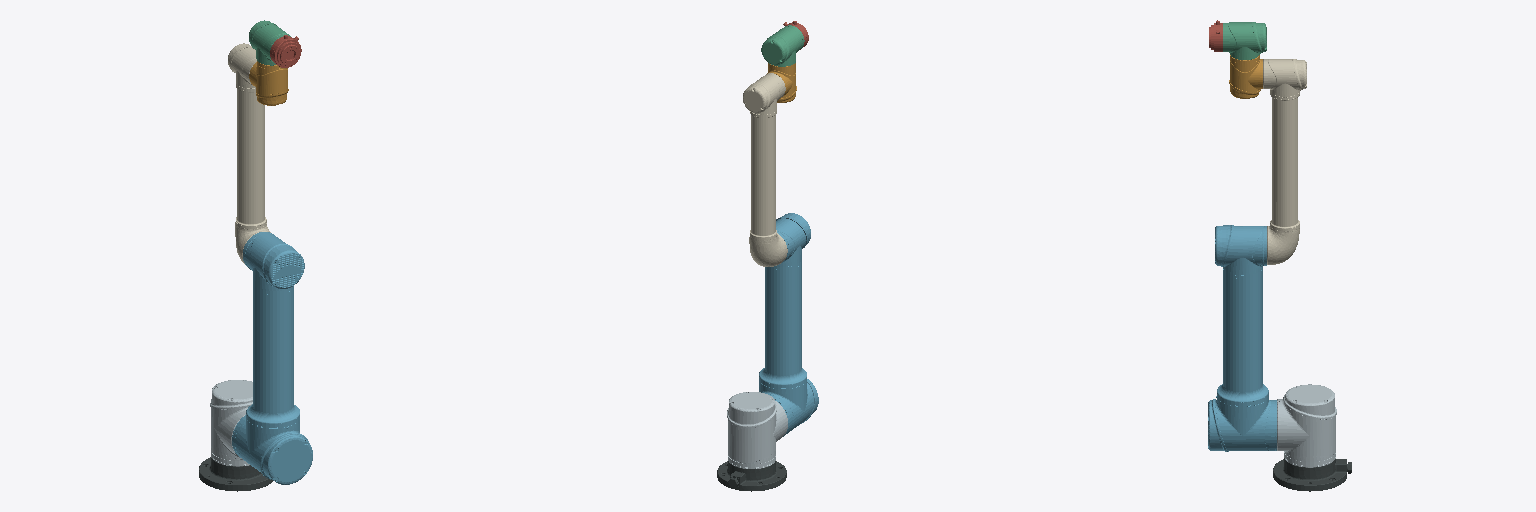
robot.urdf — aubo_i12h:
<?xml version="1.0"?>
<!--
  AUBO-i12H model for the physical robot connected to this project.

  Kinematics source:
    rob1.RobotConfig.getRobotType() == "aubo_i12H"
    rob1.RobotConfig.getKinematicsParam(true)

  The six revolute-joint origins encode the controller's calibrated modified-DH
  transform exactly:
      A_i(q_i) = Rx(alpha_i) Tx(a_i) Rz(theta_i + q_i) Tz(d_i)

  Geometry source:
    AUBO official i12H STEP, SHA-256
    3003f06588fecdf72fed3a36412b5fd2b41a9809af53da43f2d21272834a8948

  Mesh coordinates are metres and are expressed in the nominal i12H link
  frames.  The calibrated joint frames below intentionally introduce the
  controller's sub-millimetre / sub-0.11-degree factory compensation.
-->
<robot name="aubo_i12h">
  <material name="aubo_dark"><color rgba="0.30 0.33 0.33 1"/></material>
  <material name="aubo_light"><color rgba="0.74 0.79 0.81 1"/></material>
  <material name="aubo_blue"><color rgba="0.45 0.67 0.76 1"/></material>
  <material name="aubo_warm"><color rgba="0.82 0.80 0.73 1"/></material>
  <material name="aubo_gold"><color rgba="0.78 0.60 0.32 1"/></material>
  <material name="aubo_green"><color rgba="0.40 0.66 0.55 1"/></material>
  <material name="aubo_red"><color rgba="0.67 0.38 0.34 1"/></material>

  <link name="base_link">
    <visual><geometry><mesh filename="package://aubo_description/meshes/aubo_i12h/base_link.STL"/></geometry><material name="aubo_dark"/></visual>
    <collision><geometry><mesh filename="package://aubo_description/meshes/aubo_i12h/base_link.STL"/></geometry></collision>
  </link>

  <link name="shoulder_Link">
    <visual><geometry><mesh filename="package://aubo_description/meshes/aubo_i12h/shoulder_Link.STL"/></geometry><material name="aubo_light"/></visual>
    <collision><geometry><mesh filename="package://aubo_description/meshes/aubo_i12h/shoulder_Link.STL"/></geometry></collision>
  </link>
  <joint name="shoulder_joint" type="revolute">
    <parent link="base_link"/><child link="shoulder_Link"/>
    <origin xyz="0 0 0.163" rpy="0 0 3.141592653589793"/>
    <axis xyz="0 0 1"/>
    <limit lower="-6.283185307179586" upper="6.283185307179586" effort="100" velocity="3.106686068549907"/>
  </joint>

  <link name="upperArm_Link">
    <visual><geometry><mesh filename="package://aubo_description/meshes/aubo_i12h/upperArm_Link.STL"/></geometry><material name="aubo_blue"/></visual>
    <collision><geometry><mesh filename="package://aubo_description/meshes/aubo_i12h/upperArm_Link.STL"/></geometry></collision>
  </link>
  <joint name="upperArm_joint" type="revolute">
    <parent link="shoulder_Link"/><child link="upperArm_Link"/>
    <origin xyz="-0.000991499982774258 0.191046189272425 0.0000640195786026701"
            rpy="-0.000000000000182729 -1.57046122680442 -1.57079632679471"/>
    <axis xyz="0 0 1"/>
    <limit lower="-6.283185307179586" upper="6.283185307179586" effort="100" velocity="3.106686068549907"/>
  </joint>

  <link name="foreArm_Link">
    <visual><geometry><mesh filename="package://aubo_description/meshes/aubo_i12h/foreArm_Link.STL"/></geometry><material name="aubo_warm"/></visual>
    <collision><geometry><mesh filename="package://aubo_description/meshes/aubo_i12h/foreArm_Link.STL"/></geometry></collision>
  </link>
  <joint name="foreArm_joint" type="revolute">
    <parent link="upperArm_Link"/><child link="foreArm_Link"/>
    <origin xyz="0.580595799996518 -0.000000073699591064403 0.0000461999401217392"
            rpy="-3.13999742363161 0 0"/>
    <axis xyz="0 0 1"/>
    <limit lower="-2.897246558310587" upper="2.897246558310587" effort="100" velocity="4.660028943"/>
  </joint>

  <link name="wrist1_Link">
    <visual><geometry><mesh filename="package://aubo_description/meshes/aubo_i12h/wrist1_Link.STL"/></geometry><material name="aubo_gold"/></visual>
    <collision><geometry><mesh filename="package://aubo_description/meshes/aubo_i12h/wrist1_Link.STL"/></geometry></collision>
  </link>
  <joint name="wrist1_joint" type="revolute">
    <parent link="foreArm_Link"/><child link="wrist1_Link"/>
    <origin xyz="0.552972999992780 -0.0000000762798584270195 -0.0000461999359335617"
            rpy="3.141592653589793 0.00165107997600001 1.570796326794897"/>
    <axis xyz="0 0 1"/>
    <limit lower="-6.283185307179586" upper="6.283185307179586" effort="100" velocity="4.136430327226561"/>
  </joint>

  <link name="wrist2_Link">
    <visual><geometry><mesh filename="package://aubo_description/meshes/aubo_i12h/wrist2_Link.STL"/></geometry><material name="aubo_green"/></visual>
    <collision><geometry><mesh filename="package://aubo_description/meshes/aubo_i12h/wrist2_Link.STL"/></geometry></collision>
  </link>
  <joint name="wrist2_joint" type="revolute">
    <parent link="wrist1_Link"/><child link="wrist2_Link"/>
    <origin xyz="-0.000558800005819649 0.117938338727483 0.000120211057202555"
            rpy="-1.56977705675201 0 0"/>
    <axis xyz="0 0 1"/>
    <limit lower="-6.283185307179586" upper="6.283185307179586" effort="100" velocity="4.136430327226561"/>
  </joint>

  <link name="wrist3_Link">
    <visual><geometry><mesh filename="package://aubo_description/meshes/aubo_i12h/wrist3_Link.STL"/></geometry><material name="aubo_red"/></visual>
    <collision><geometry><mesh filename="package://aubo_description/meshes/aubo_i12h/wrist3_Link.STL"/></geometry></collision>
  </link>
  <joint name="wrist3_joint" type="revolute">
    <parent link="wrist2_Link"/><child link="wrist3_Link"/>
    <origin xyz="-0.000113499998406041 -0.103499838555059 -0.000182808852697633"
            rpy="1.57256259682146 0 0"/>
    <axis xyz="0 0 1"/>
    <limit lower="-6.283185307179586" upper="6.283185307179586" effort="100" velocity="4.136430327226561"/>
  </joint>

  <!-- Controller forwardToolKinematics returns this single flange frame. -->
  <link name="flange_link"/>
  <joint name="wrist3_to_flange" type="fixed">
    <parent link="wrist3_Link"/><child link="flange_link"/>
    <origin xyz="0 0 0" rpy="0 0 0"/>
  </joint>
</robot>

--- Facts derived from the render (not from the file) ---
Views: 3 orthographic renders of the robot side by side, from view 1: azimuth 30°, elevation 25°; view 2: azimuth 150°, elevation 25°; view 3: azimuth 270°, elevation 25°.
Robot: aubo_i12h — 8 links, 7 joints (6 revolute, 1 fixed); root link base_link; default pose: all joints at 0.
Links seen in each view (by area): view 1: upperArm_Link, foreArm_Link, shoulder_Link, base_link, wrist1_Link, wrist2_Link, wrist3_Link; view 2: upperArm_Link, foreArm_Link, shoulder_Link, base_link, wrist2_Link, wrist1_Link; view 3: upperArm_Link, foreArm_Link, shoulder_Link, base_link, wrist2_Link, wrist1_Link.
Boxes of the visible links, x1,y1,x2,y2 form: upperArm_Link: (232, 232, 312, 484); foreArm_Link: (228, 43, 270, 263); shoulder_Link: (210, 380, 252, 466); base_link: (199, 457, 272, 491); wrist1_Link: (249, 61, 288, 105); wrist2_Link: (249, 20, 290, 65); wrist3_Link: (270, 35, 301, 67); upperArm_Link: (759, 213, 818, 436); foreArm_Link: (743, 73, 787, 266); shoulder_Link: (727, 392, 787, 468); base_link: (717, 461, 786, 491); wrist2_Link: (761, 25, 804, 66); wrist1_Link: (767, 63, 796, 102); upperArm_Link: (1208, 225, 1276, 451); foreArm_Link: (1263, 59, 1306, 264); shoulder_Link: (1277, 384, 1336, 467); base_link: (1273, 458, 1351, 491); wrist2_Link: (1223, 22, 1266, 59); wrist1_Link: (1229, 55, 1262, 98).
Bounding box of the posed robot: 0.218 × 0.4199 × 1.47 m (x, y, z).
Meshes: 7 distinct files referenced, 7 mesh visuals loaded (7 binary STL).
